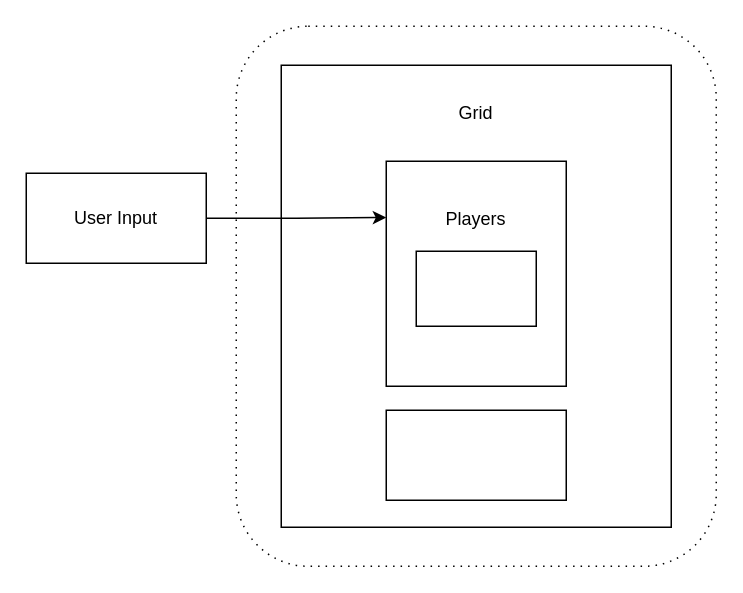
Image size: 743x593. Some labels were removed from this diagram. Here are the shapes that lost their labels. From the top down, the box of each, then its label:
(415, 250, 536, 326): AIs
(385, 409, 566, 500): Grid (Nested List)
